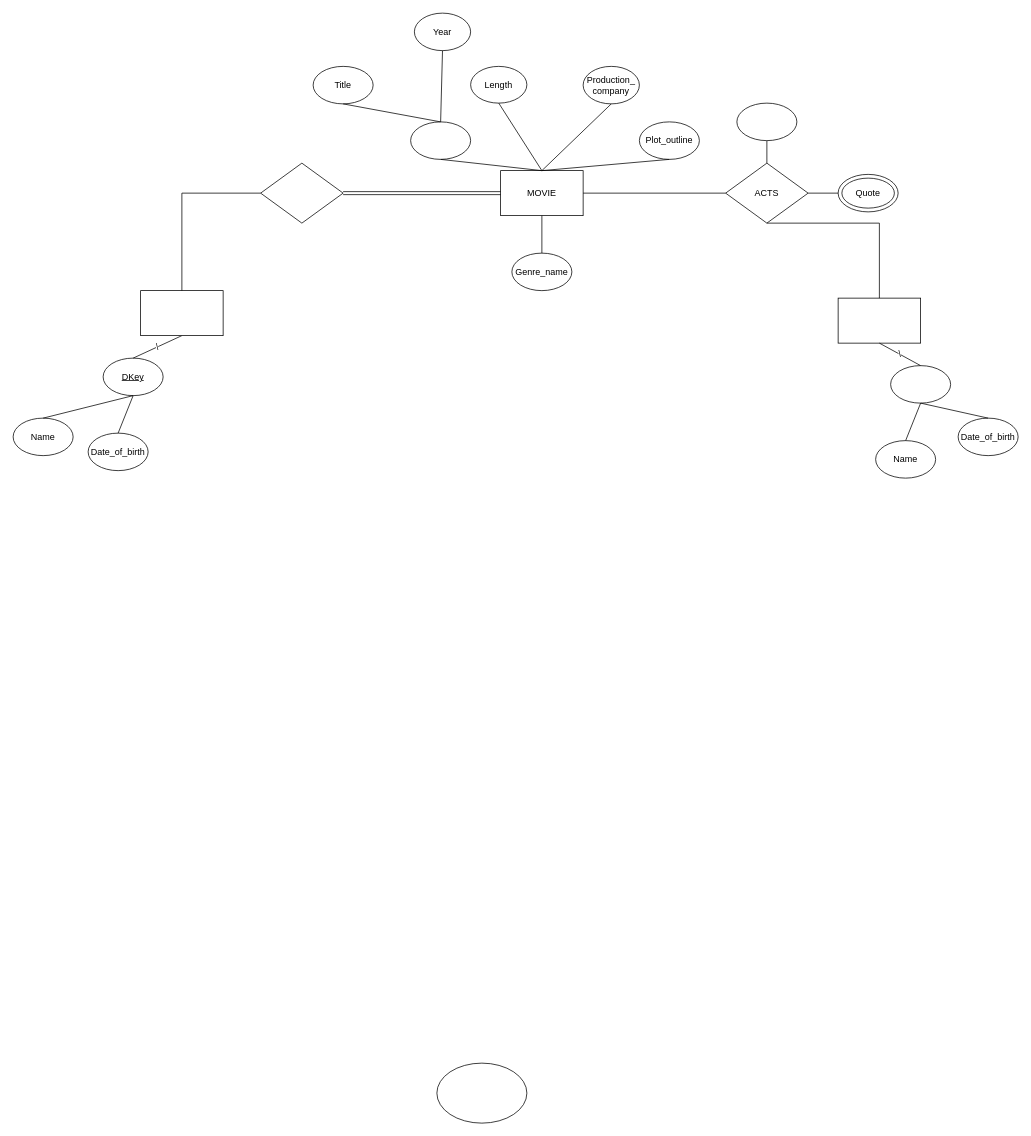
This 1031x1136 diagram has some shape labels left out. Each missing label, with the centre of its shape:
"ACTOR" belongs at (879,320).
"AKey" belongs at (920,384).
"DIRECTOR" belongs at (181,313).
"DIRECTS" belongs at (301,192).
"MKey" belongs at (440,140).
"Role" belongs at (766,121).
